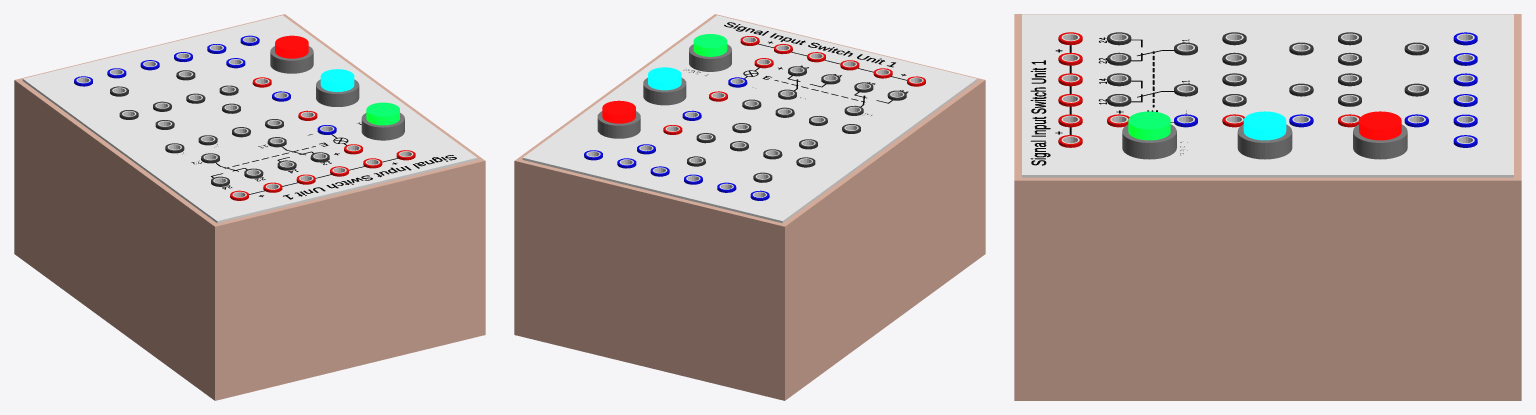
File: switch-box.glb
3 views of the same model, side by side, from view 1: azimuth 30°, elevation 25°; view 2: azimuth 150°, elevation 25°; view 3: azimuth 270°, elevation 25° (orthographic). The views are drawn at different scales.
Visible parts, largest first — view 1: PF_SWITCH_BOX__go1075__mesh0, NamePlate__go1089__mesh0, NamePlate__go1089__mesh5, NamePlate__go1089__mesh3, NamePlate__go1089__mesh1, Sticker__go884__mesh0, NamePlate__go1089__mesh4, PBS-2__go1099__mesh0, PBS-1__go814__mesh0, PBS-3__go1098__mesh0, NamePlate__go1089__mesh2; view 2: PF_SWITCH_BOX__go1075__mesh0, NamePlate__go1089__mesh0, NamePlate__go1089__mesh5, NamePlate__go1089__mesh3, NamePlate__go1089__mesh1, Sticker__go884__mesh0, NamePlate__go1089__mesh4, PBS-1__go814__mesh0, PBS-2__go1099__mesh0, PBS-3__go1098__mesh0, NamePlate__go1089__mesh2; view 3: PF_SWITCH_BOX__go1075__mesh0, NamePlate__go1089__mesh0, NamePlate__go1089__mesh5, NamePlate__go1089__mesh3, NamePlate__go1089__mesh1, NamePlate__go1089__mesh4, Sticker__go884__mesh0, PBS-2__go1099__mesh0, PBS-1__go814__mesh0, PBS-3__go1098__mesh0, NamePlate__go1089__mesh2.
Part boxes in pixels (box(x1,y1,x2,y2)): PF_SWITCH_BOX__go1075__mesh0: box(14, 14, 485, 400); NamePlate__go1089__mesh0: box(22, 15, 477, 223); NamePlate__go1089__mesh5: box(110, 70, 329, 186); NamePlate__go1089__mesh3: box(270, 46, 404, 140); NamePlate__go1089__mesh1: box(74, 35, 336, 134); Sticker__go884__mesh0: box(182, 122, 456, 199); NamePlate__go1089__mesh4: box(230, 150, 415, 200); PBS-2__go1099__mesh0: box(320, 69, 354, 91); PBS-1__go814__mesh0: box(366, 102, 399, 125); PBS-3__go1098__mesh0: box(275, 35, 308, 58); NamePlate__go1089__mesh2: box(252, 77, 362, 154); PF_SWITCH_BOX__go1075__mesh0: box(514, 14, 985, 400); NamePlate__go1089__mesh0: box(522, 15, 977, 223); NamePlate__go1089__mesh5: box(687, 66, 906, 182); NamePlate__go1089__mesh3: box(597, 44, 731, 138); NamePlate__go1089__mesh1: box(584, 77, 769, 200); Sticker__go884__mesh0: box(683, 22, 908, 115); NamePlate__go1089__mesh4: box(740, 36, 925, 86); PBS-1__go814__mesh0: box(693, 34, 727, 56); PBS-2__go1099__mesh0: box(648, 67, 681, 90); PBS-3__go1098__mesh0: box(602, 100, 635, 123); NamePlate__go1089__mesh2: box(663, 58, 773, 134); PF_SWITCH_BOX__go1075__mesh0: box(1014, 14, 1521, 400); NamePlate__go1089__mesh0: box(1022, 14, 1513, 177); NamePlate__go1089__mesh5: box(1107, 32, 1428, 106); NamePlate__go1089__mesh3: box(1122, 124, 1407, 159); NamePlate__go1089__mesh1: box(1174, 32, 1477, 147); NamePlate__go1089__mesh4: box(1058, 32, 1082, 147); Sticker__go884__mesh0: box(1030, 37, 1189, 165); PBS-2__go1099__mesh0: box(1243, 111, 1286, 140); PBS-1__go814__mesh0: box(1128, 111, 1170, 140); PBS-3__go1098__mesh0: box(1359, 111, 1401, 140); NamePlate__go1089__mesh2: box(1107, 114, 1360, 127).
Bounding box in the file's own units: 0.13 × 0.091 × 0.167.
Materials: 10 (5 with a texture image).
